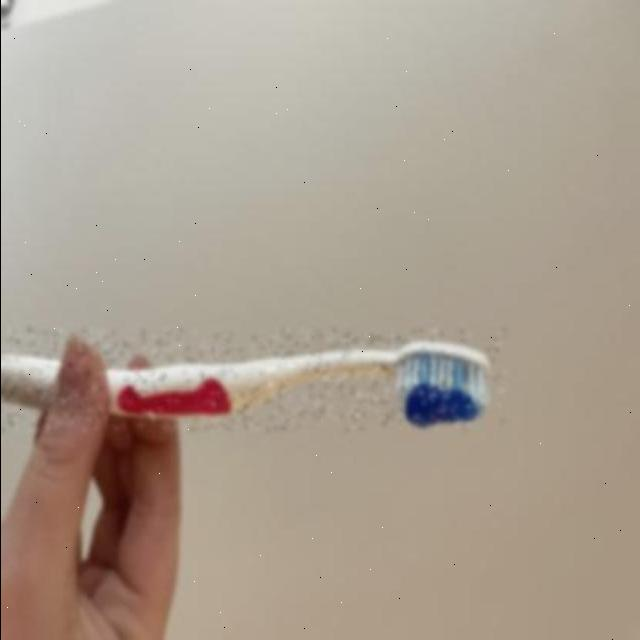toothbrush: (0, 330, 504, 430)
